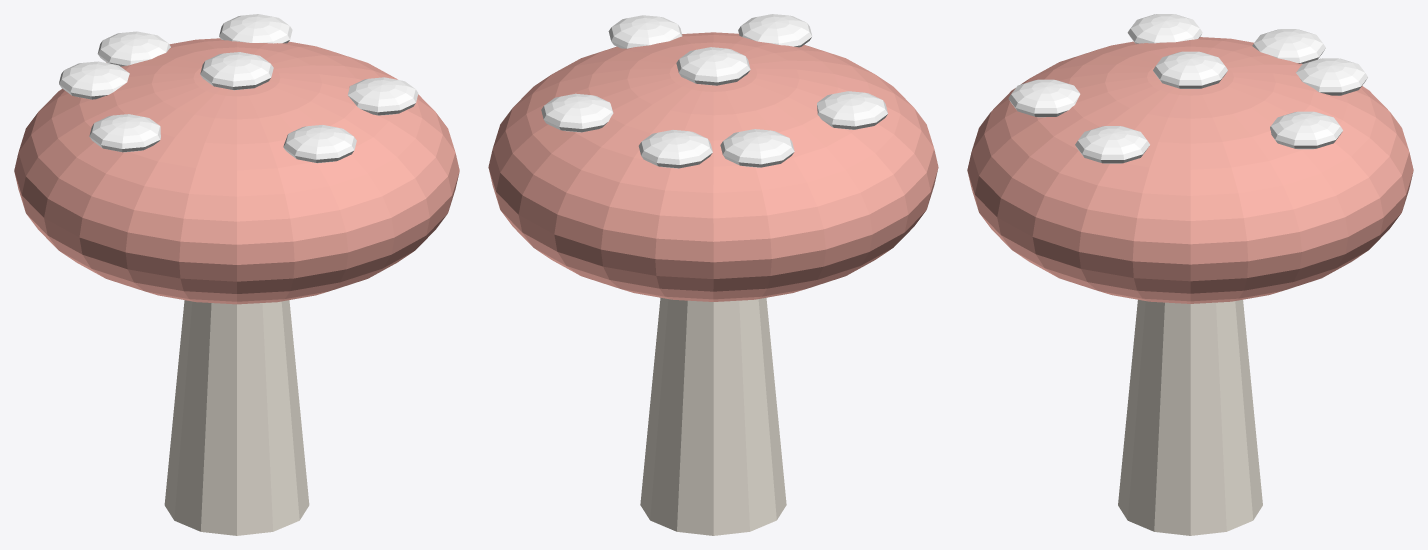
File: mushroom_r43_backup.glb
3 renders of one model, left to right at view 1: azimuth 30°, elevation 25°; view 2: azimuth 150°, elevation 25°; view 3: azimuth 270°, elevation 25°, orthographic.
Parts seen in each view (by area): view 1: Pilz_Cap, Pilz_Stem, Pilz_Dot0, Pilz_Dot2, Pilz_Dot4, Pilz_Dot5, Pilz_Dot1, Pilz_Dot6, Pilz_Dot3; view 2: Pilz_Cap, Pilz_Stem, Pilz_Dot6, Pilz_Dot0, Pilz_Dot1, Pilz_Dot3, Pilz_Dot4, Pilz_Dot5, Pilz_Dot2; view 3: Pilz_Cap, Pilz_Stem, Pilz_Dot0, Pilz_Dot5, Pilz_Dot3, Pilz_Dot2, Pilz_Dot6, Pilz_Dot1, Pilz_Dot4.
Part boxes in pixels (x1,y1,x2,y2): Pilz_Cap: [14, 38, 459, 304]; Pilz_Stem: [164, 300, 309, 535]; Pilz_Dot0: [200, 52, 273, 90]; Pilz_Dot2: [283, 125, 356, 163]; Pilz_Dot4: [89, 114, 160, 152]; Pilz_Dot5: [348, 77, 418, 115]; Pilz_Dot1: [59, 61, 129, 99]; Pilz_Dot6: [97, 31, 170, 66]; Pilz_Dot3: [219, 14, 292, 43]; Pilz_Cap: [488, 32, 938, 301]; Pilz_Stem: [640, 297, 786, 535]; Pilz_Dot6: [638, 130, 712, 168]; Pilz_Dot0: [676, 47, 750, 85]; Pilz_Dot1: [720, 129, 794, 167]; Pilz_Dot3: [541, 93, 613, 132]; Pilz_Dot4: [817, 91, 887, 129]; Pilz_Dot5: [608, 15, 682, 48]; Pilz_Dot2: [738, 14, 812, 47]; Pilz_Cap: [967, 37, 1413, 303]; Pilz_Stem: [1118, 299, 1262, 535]; Pilz_Dot0: [1153, 51, 1227, 88]; Pilz_Dot5: [1075, 126, 1149, 163]; Pilz_Dot3: [1270, 111, 1342, 149]; Pilz_Dot2: [1008, 79, 1080, 117]; Pilz_Dot6: [1296, 58, 1367, 95]; Pilz_Dot1: [1252, 29, 1325, 63]; Pilz_Dot4: [1127, 14, 1202, 43].
Size of the model in its own units: 3.2 by 3.53 by 3.2.
